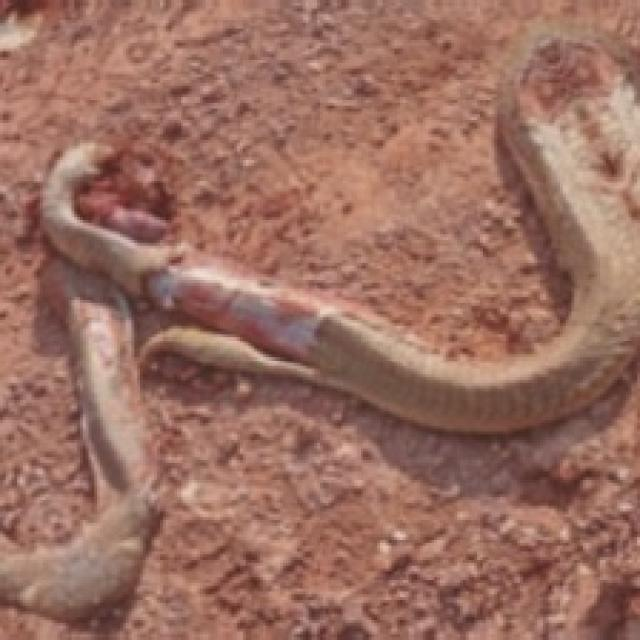king cobra: (0, 0, 637, 546), (43, 23, 637, 431), (0, 357, 637, 637)
